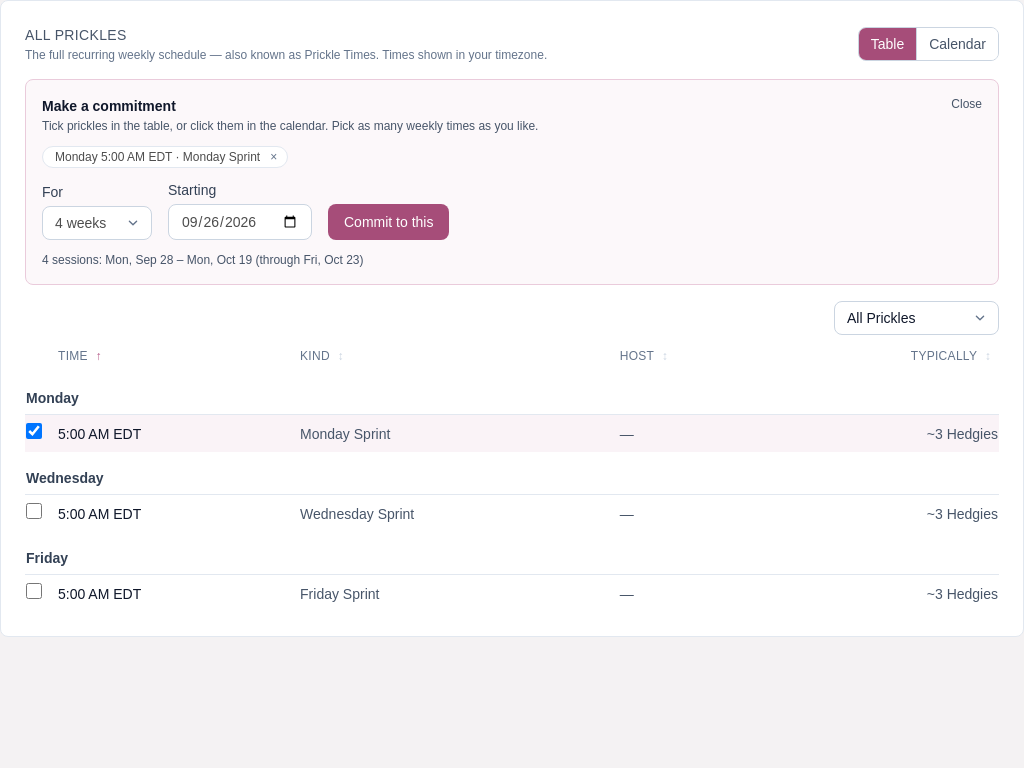
Test: All Prickles commit mode › shows a server error and keeps the picks
This screenshot has width=1024, height=768.
Click the button "Commit to this".
click(389, 222)  # box 328,204 -> 450,240
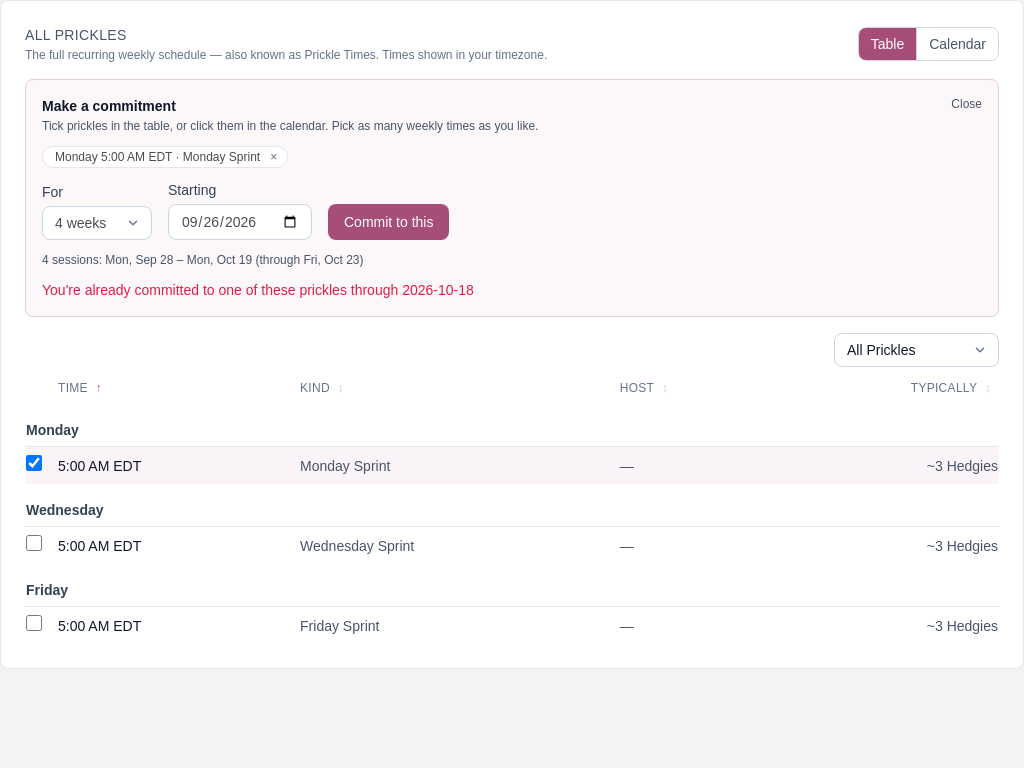
Now the message shows "already committed", box 42,282 -> 474,298
